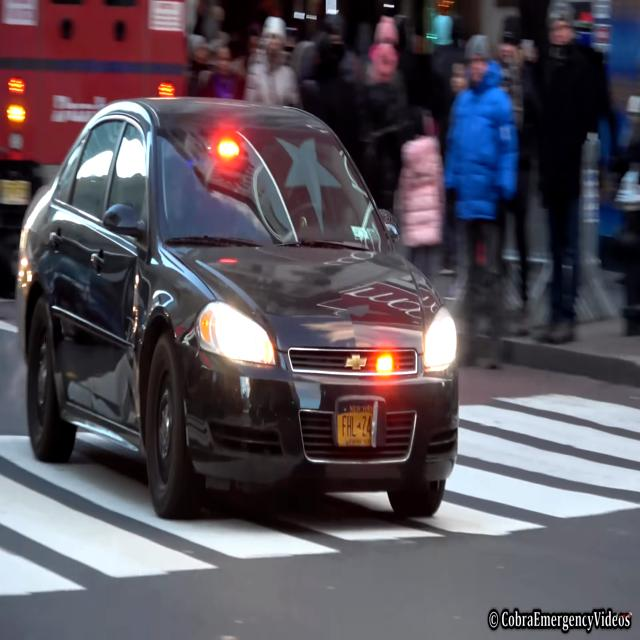emergency-vehicles: (10, 86, 475, 548)
